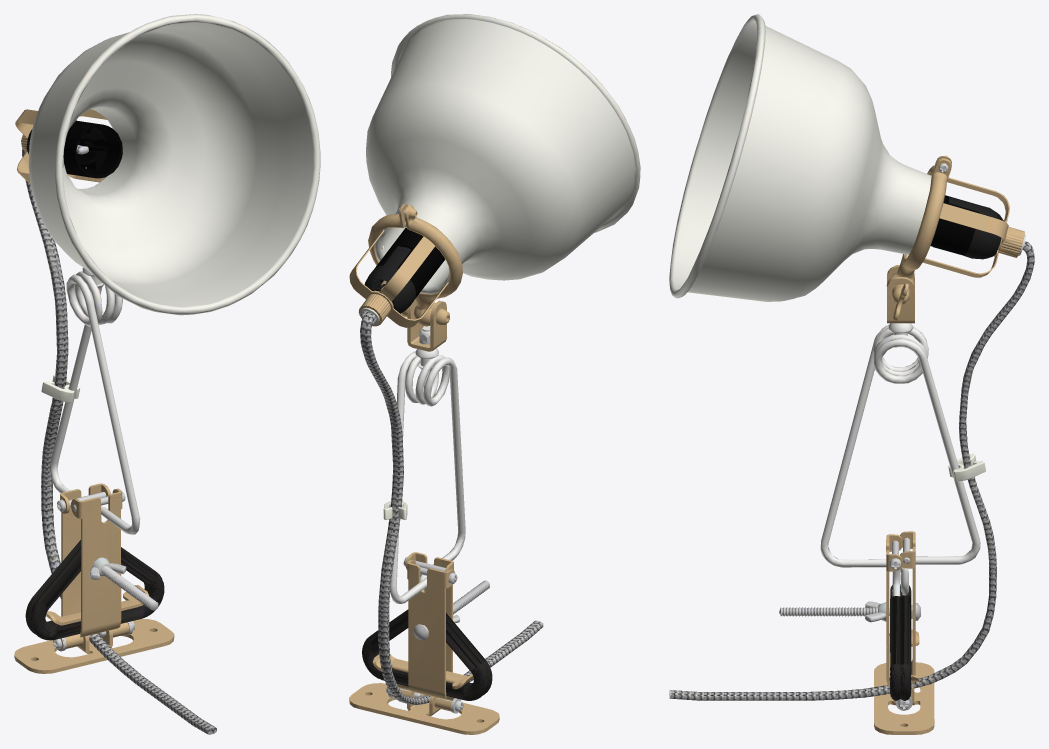
File: ranarp_reflektor_z_klamra_scienny_10231321.glb
3 views of the same model, side by side, from view 1: azimuth 30°, elevation 25°; view 2: azimuth 150°, elevation 25°; view 3: azimuth 270°, elevation 25° (orthographic). The views are drawn at different scales.
Visible parts, largest first — view 1: ranarp_reflektor_z_klamra_scienny_10231321; view 2: ranarp_reflektor_z_klamra_scienny_10231321; view 3: ranarp_reflektor_z_klamra_scienny_10231321.
Part boxes in pixels (x1,y1,x2,y2): ranarp_reflektor_z_klamra_scienny_10231321: (14,14,320,734); ranarp_reflektor_z_klamra_scienny_10231321: (349,14,640,734); ranarp_reflektor_z_klamra_scienny_10231321: (669,14,1034,734).
Size of the model in its own units: 0.1484 by 0.3713 by 0.1832.
Materials: 1 (1 with a texture image).
